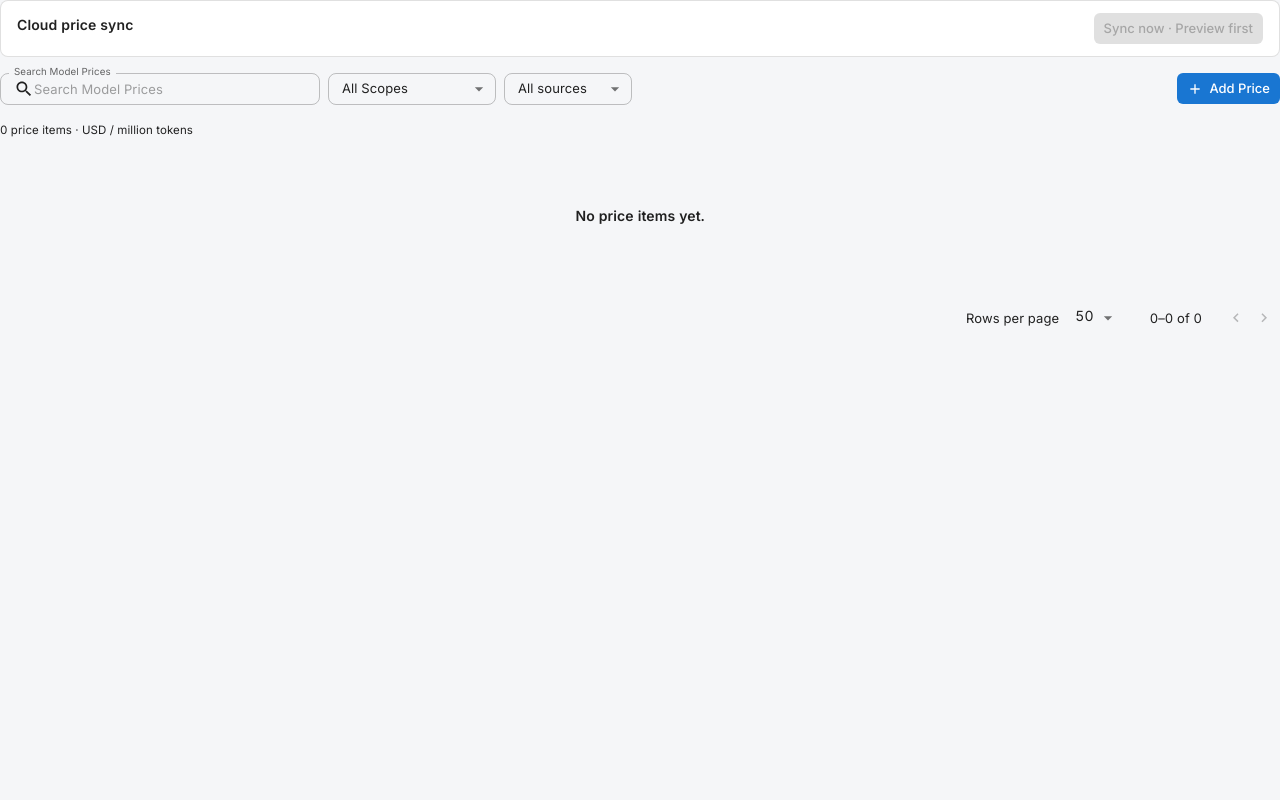
it: admin console smoke test › requires an explicit value for every token price category
Click the button "Add Price": (1229, 89) x1=1178 y1=73 x2=1279 y2=104
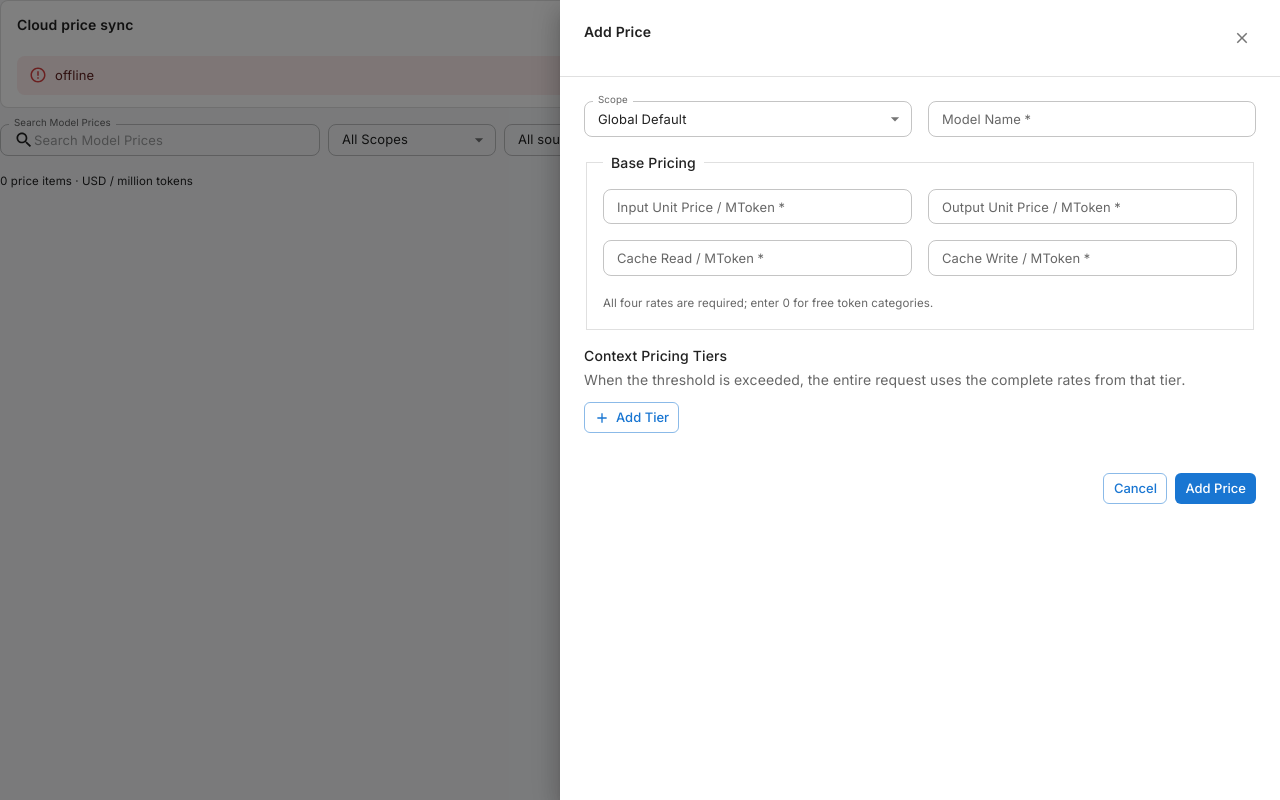
Result: the text "All four rates are required; enter 0 for free token categories." is shown at x1=603 y1=296 x2=933 y2=310
